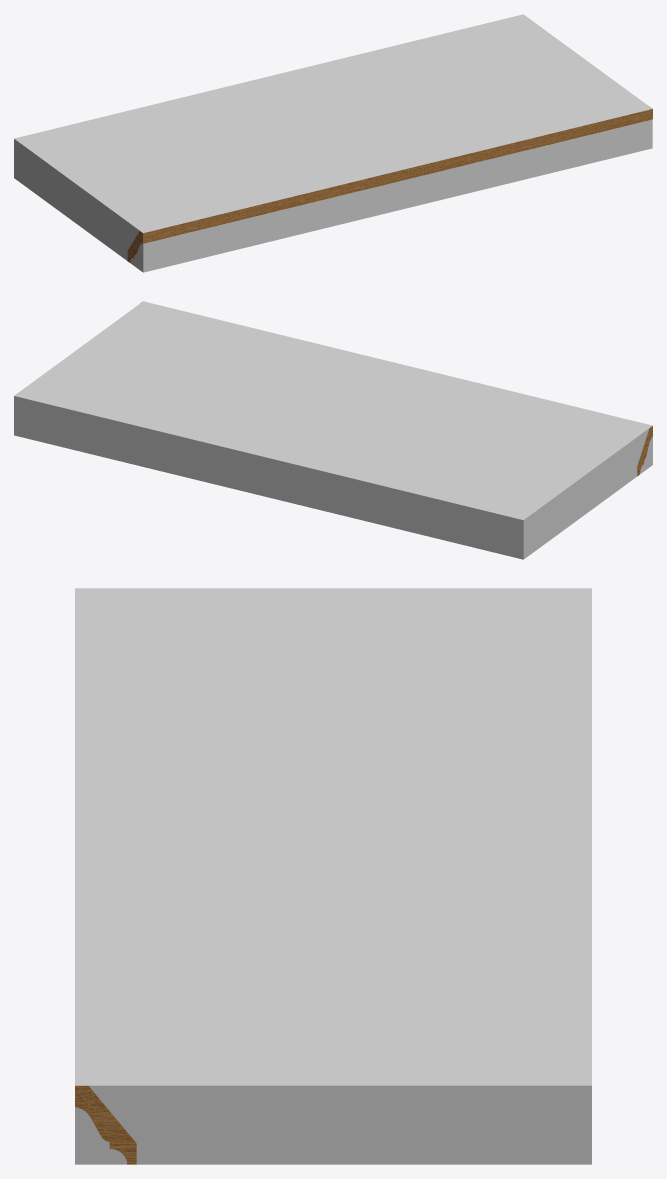
Rendered from VCKR0020.glb.
The picture shows the model from 3 angles, top to bottom: view 1: azimuth 30°, elevation 25°; view 2: azimuth 150°, elevation 25°; view 3: azimuth 270°, elevation 25°; orthographic projection. The views are drawn at different scales.
Visible parts, largest first — view 1: _bb01.001, _(Loose Entity).001; view 2: _bb01.001; view 3: _bb01.001, _(Loose Entity).001.
Boxes of the visible parts, x1,y1,x2,y2 form: _bb01.001: (14, 14, 652, 272); _(Loose Entity).001: (127, 107, 652, 262); _bb01.001: (14, 301, 652, 559); _bb01.001: (75, 588, 591, 1164); _(Loose Entity).001: (75, 1085, 136, 1164).
Size of the model in its own units: 0.609 by 0.0451 by 0.2675.
1 material, 1 textured.
